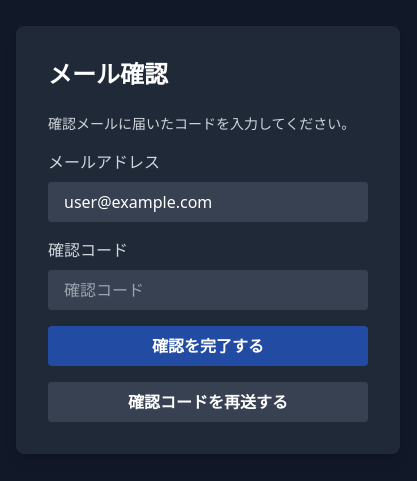
Test: ConfirmSignUpPage › resends the confirmation code
The width and height of the screenshot is (417, 481).
Click the button "確認コードを再送する" at point(208, 402), box top-left (48, 382), bottom-right (368, 422)
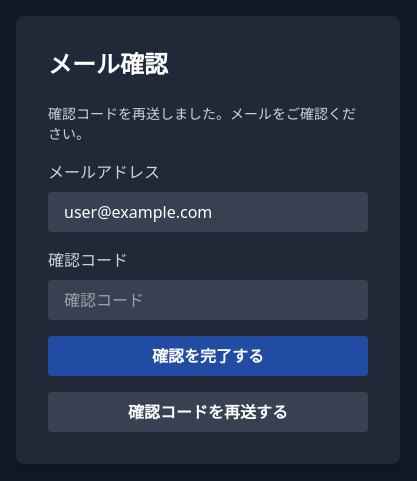
Expected: the text "確認コードを再送しました。メールをご確認ください。" is shown, top-left (48, 104), bottom-right (368, 144)
